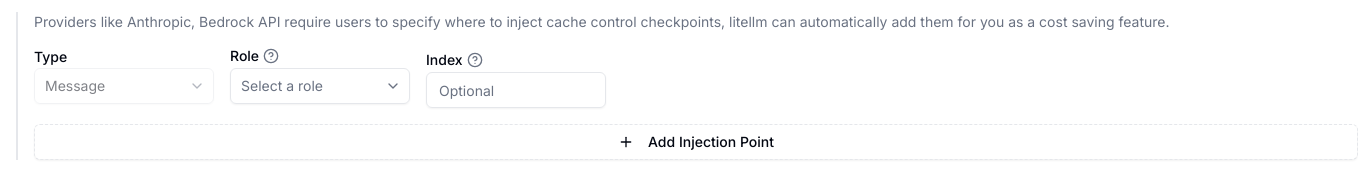
CacheControlInjectionPoints field hints › explains on the Index field that it is optional and marks that message cacheable
Hover over the button named "Index help": (475, 60) x1=467 y1=52 x2=483 y2=68
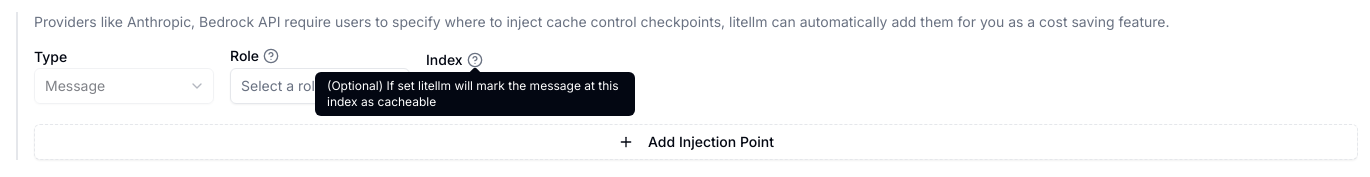
Check: the text "(Optional) If set litellm will mark the message at this index as cacheable" is shown, box x1=315 y1=72 x2=635 y2=116
